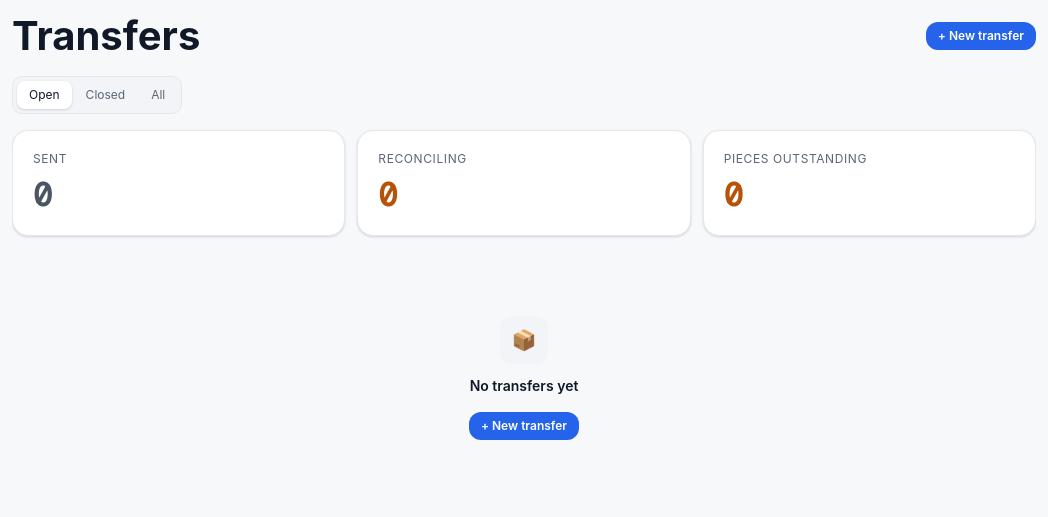
Scenario: Transfers — "+ New transfer" chooser › nc1 — only one option (no destinations): opens the round-trip form directly, no chooser
Click the 1st button "+ New transfer". click: (981, 36)
box: [926,22,1036,50]
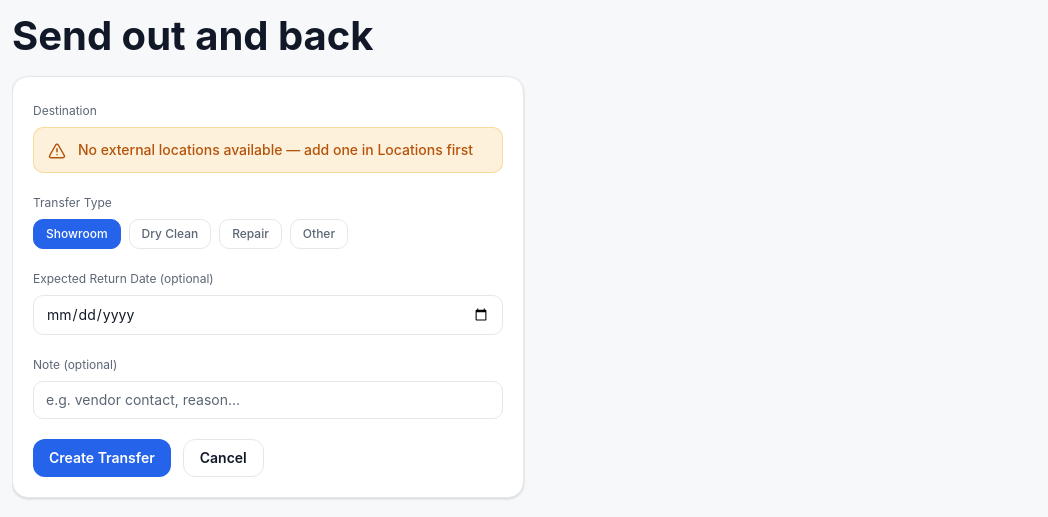
Now the button "Create Transfer" is shown, box [33,439,171,477]
Now the button with test id "type-showroom-btn" is shown, box [33,219,120,249]
